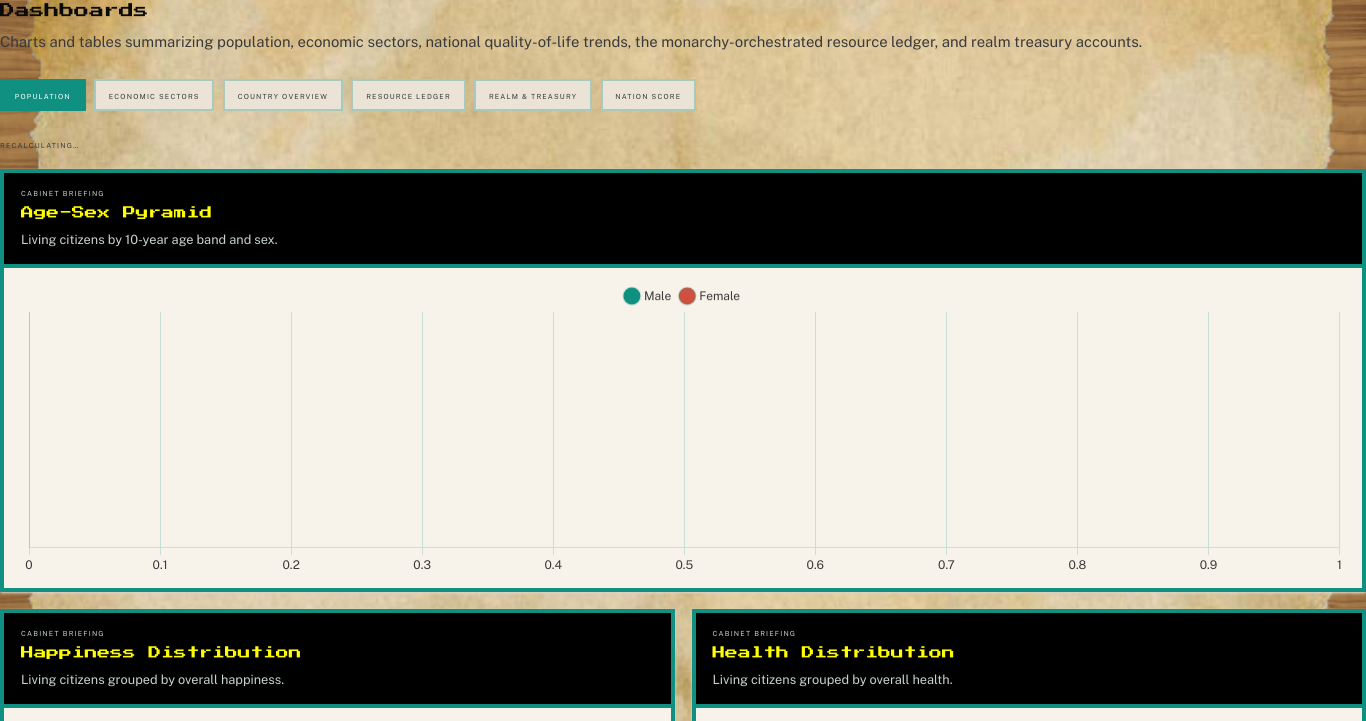
Test case: DashboardsPage › switches to the economic sectors dashboard on tab click
Click the button "Economic Sectors" at (154, 95), box [94,79,214,111]
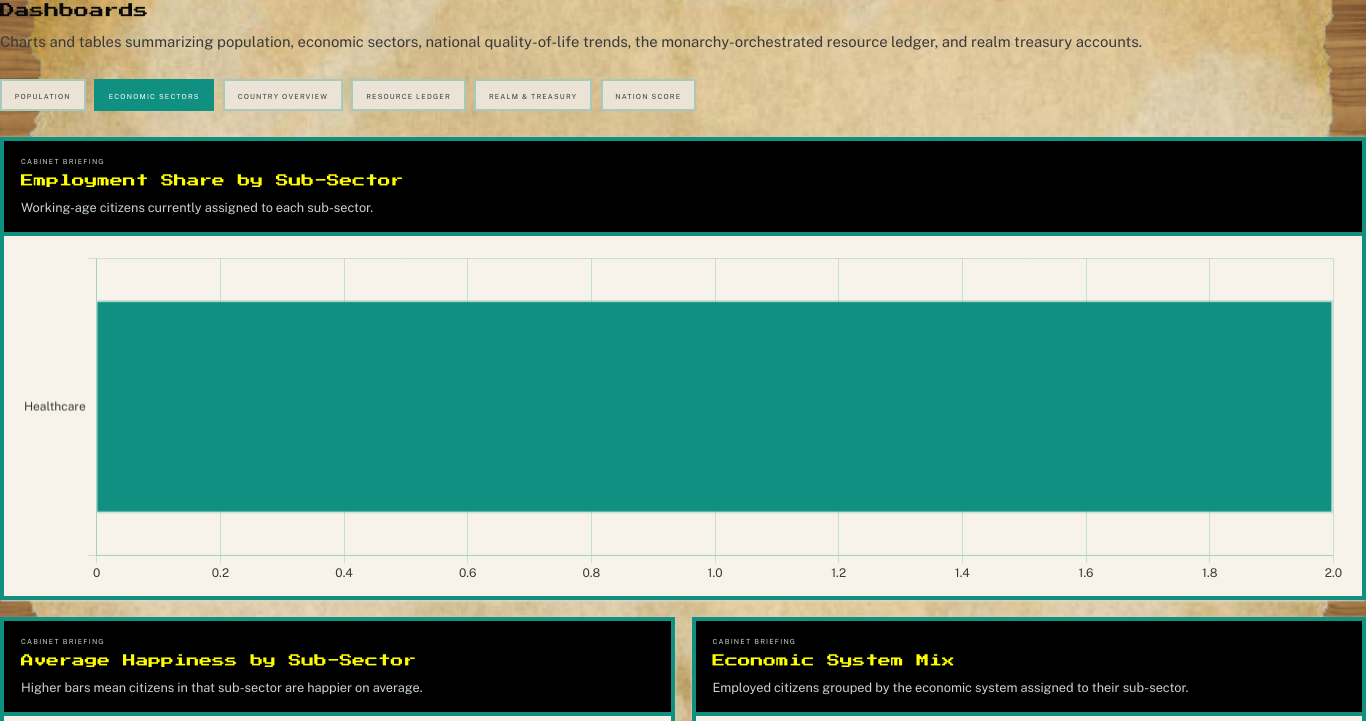
Now the heading "Employment Share by Sub-Sector" is shown, box [21,174,404,187]
